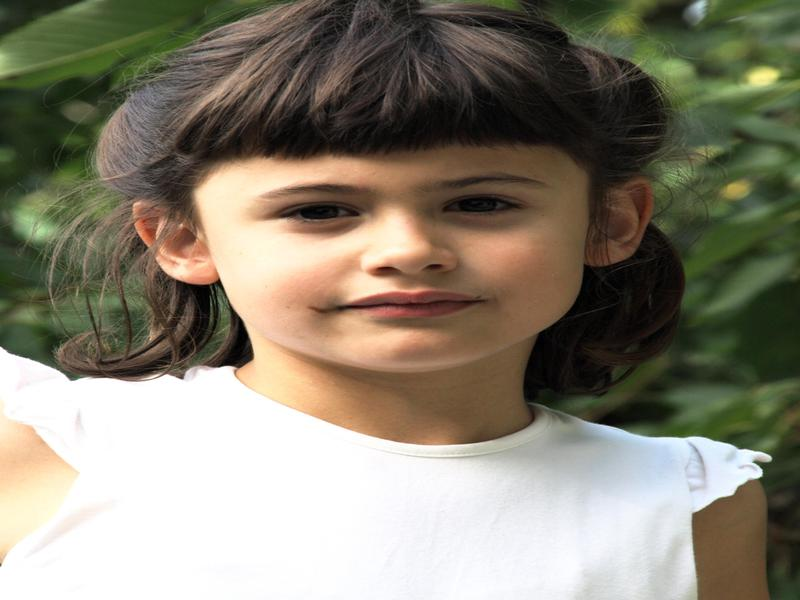person: (66, 4, 761, 600)
